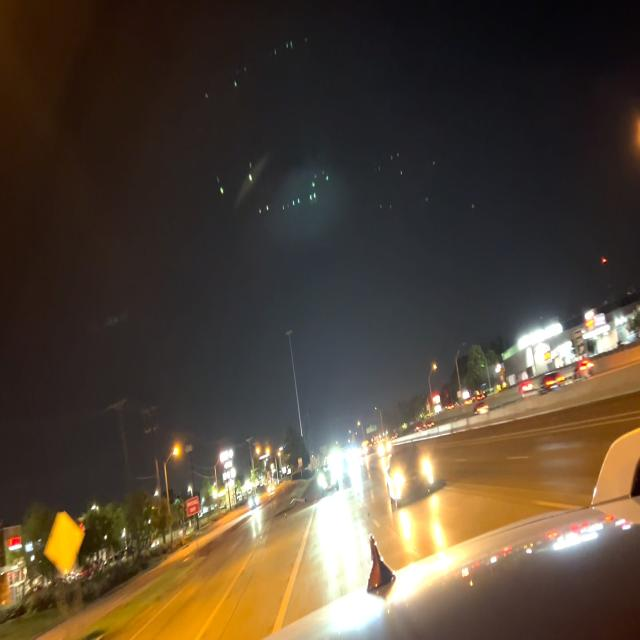back-of-sign: (45, 510, 85, 579)
